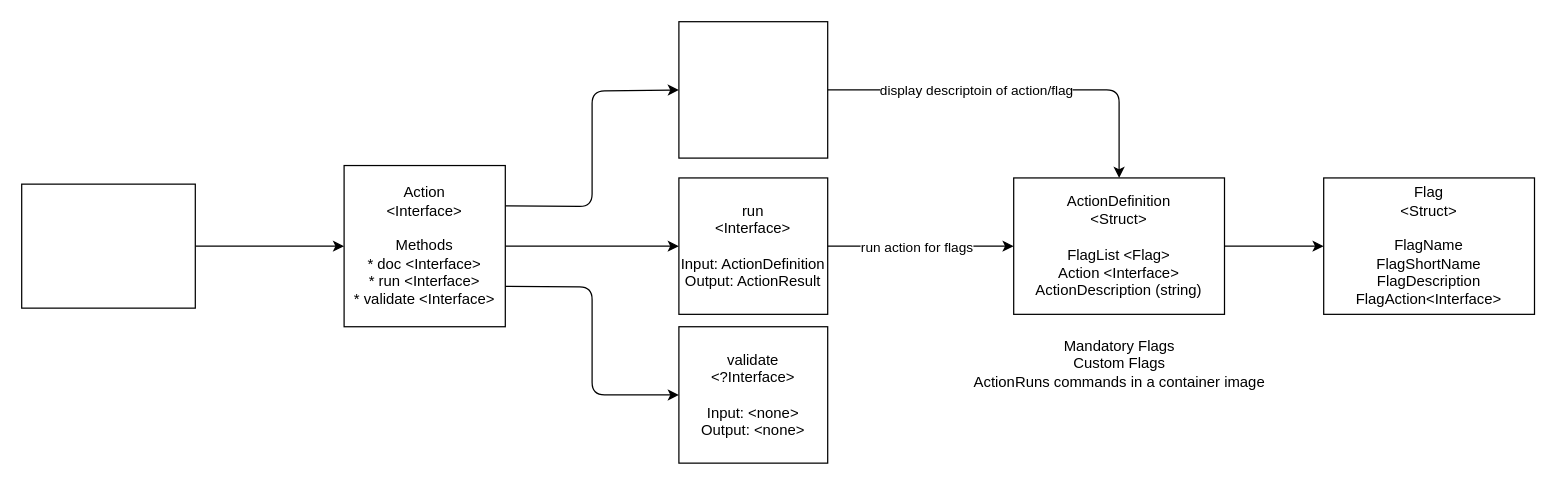
This 1556x485 diagram has some shape labels left out. The box of each missing label's shape, as (x1, y1, x2, y2) in pixels:
doc <Interface> Input: string Output: string: (678, 20, 828, 158)
SPB <Core> List<Interface> Action: (20, 183, 195, 308)
